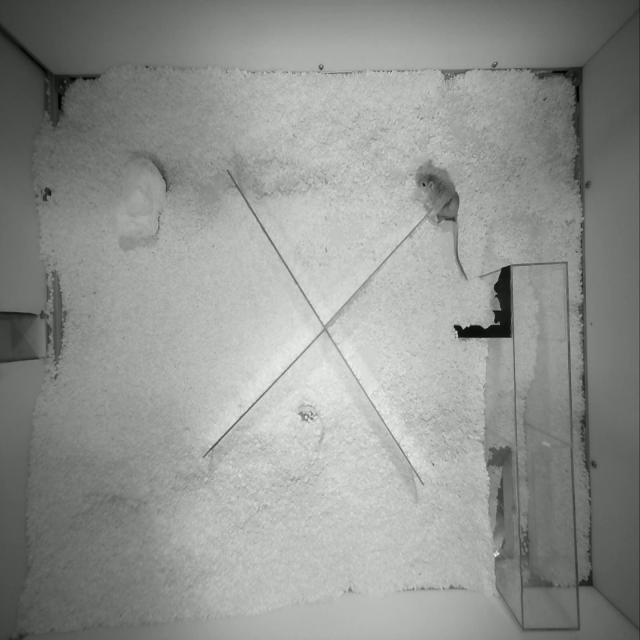adult_back: (417, 170, 467, 279)
